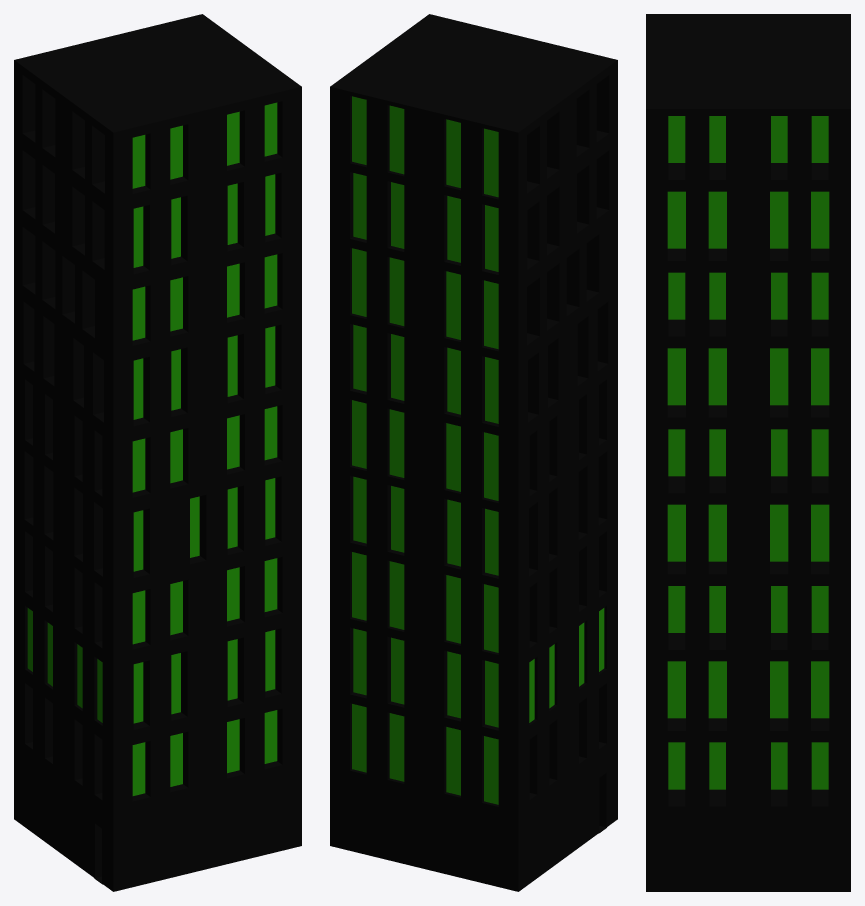
The model's file is Skyscraper_HT.fbx.
The picture shows the model from 3 angles, left to right: view 1: azimuth 30°, elevation 25°; view 2: azimuth 150°, elevation 25°; view 3: azimuth 270°, elevation 25°; orthographic projection. The views are drawn at different scales.
Parts seen in each view (by area): view 1: Skyscraper_HT; view 2: Skyscraper_HT; view 3: Skyscraper_HT.
Part boxes in pixels (box(x1,y1,x2,y2)): Skyscraper_HT: box(14, 14, 301, 891); Skyscraper_HT: box(330, 14, 617, 891); Skyscraper_HT: box(646, 14, 850, 891).
Size of the model in its own units: 662 by 2550 by 604.
